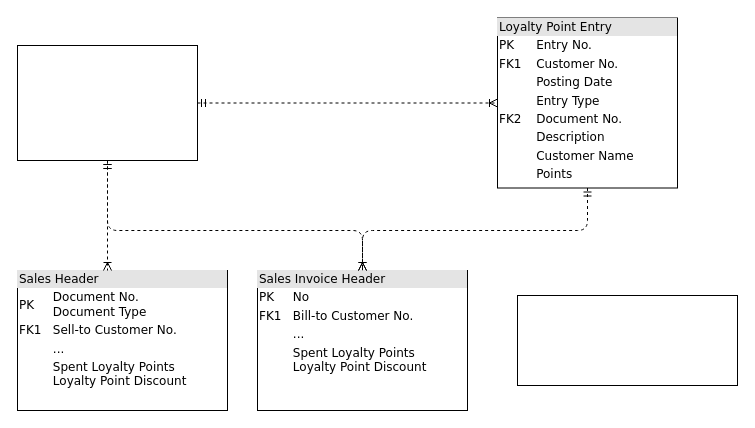
Image size: 755x428. Some labels were removed from this diagram. Each missing label, with the box of its shape:
Customer PK No. Name Name 2 ...: (16, 44, 198, 160)
Loyalty Point Setup PK Primary Key Discount per Point Turnover for Point: (516, 294, 738, 386)
